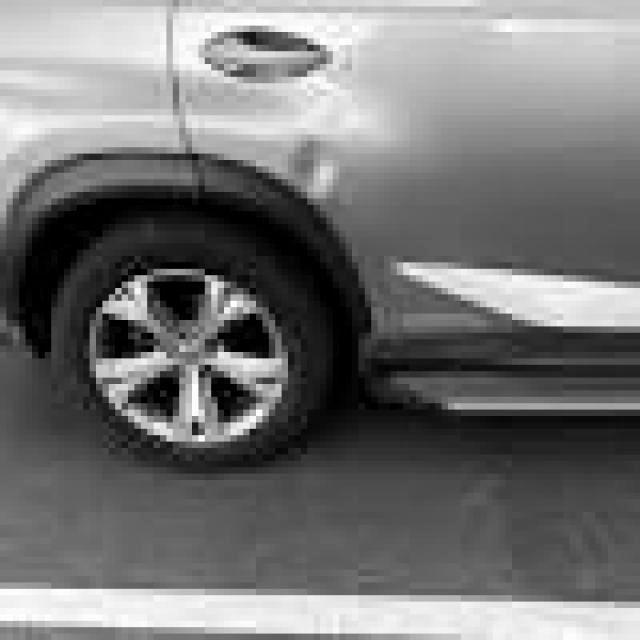doorouter-dent: (276, 129, 353, 212)
